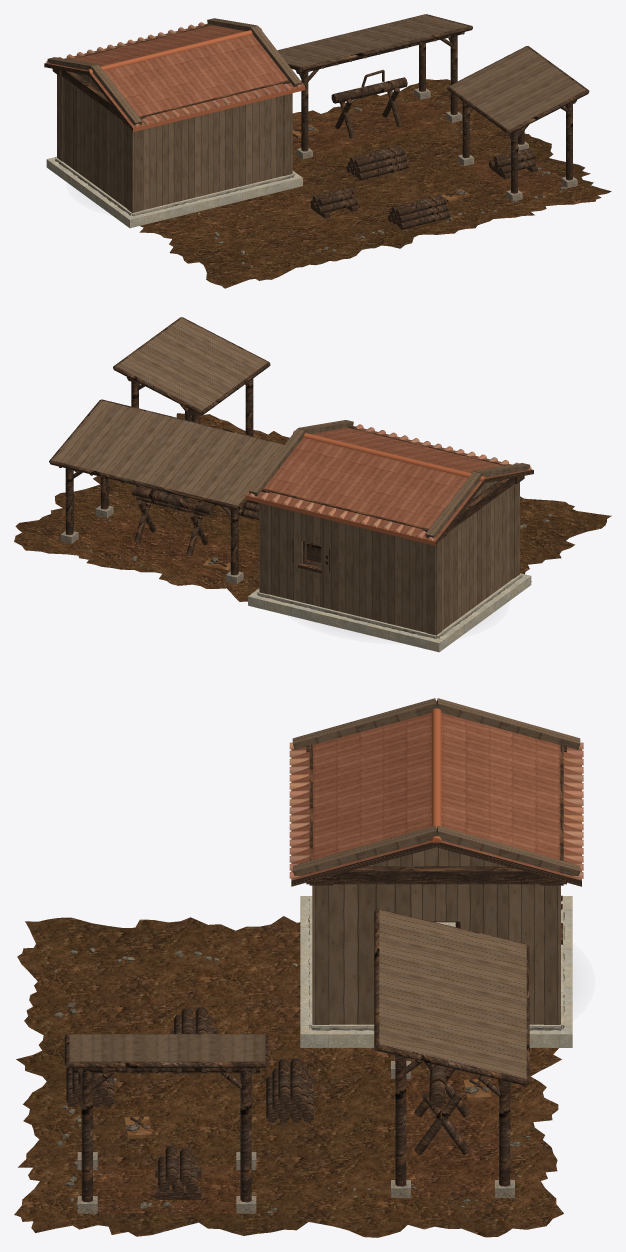
Rendered from saw@2.glb.
3 views of the same model, one above another, from view 1: azimuth 30°, elevation 25°; view 2: azimuth 150°, elevation 25°; view 3: azimuth 270°, elevation 25° (orthographic). The views are drawn at different scales.
Parts seen in each view (by area): view 1: part_1, part_6, part_7, part_16, part_11, part_10, part_5, part_17, part_4, part_18, part_2; view 2: part_6, part_11, part_16, part_1, part_7, part_10, part_5, part_17, part_18, part_4; view 3: part_1, part_11, part_16, part_7, part_6, part_10, part_5, part_18, part_4, part_17, part_2, part_14.
Part boxes in pixels (x1=…): part_1: x1=139, y1=79, x2=611, y2=288; part_6: x1=57, y1=73, x2=292, y2=212; part_7: x1=44, y1=14, x2=589, y2=229; part_16: x1=45, y1=23, x2=304, y2=128; part_11: x1=47, y1=14, x2=586, y2=129; part_10: x1=292, y1=97, x2=564, y2=197; part_5: x1=46, y1=156, x2=302, y2=228; part_17: x1=87, y1=27, x2=305, y2=131; part_4: x1=55, y1=88, x2=577, y2=216; part_18: x1=46, y1=22, x2=302, y2=127; part_2: x1=186, y1=99, x2=567, y2=270; part_6: x1=259, y1=481, x2=519, y2=635; part_11: x1=52, y1=317, x2=529, y2=538; part_16: x1=245, y1=426, x2=532, y2=541; part_1: x1=14, y1=413, x2=611, y2=601; part_7: x1=49, y1=317, x2=533, y2=575; part_10: x1=73, y1=515, x2=259, y2=580; part_5: x1=248, y1=573, x2=531, y2=652; part_17: x1=245, y1=430, x2=486, y2=545; part_18: x1=247, y1=424, x2=531, y2=541; part_4: x1=60, y1=505, x2=522, y2=638; part_1: x1=14, y1=916, x2=563, y2=1237; part_11: x1=69, y1=698, x2=580, y2=1078; part_16: x1=291, y1=713, x2=581, y2=880; part_7: x1=64, y1=745, x2=581, y2=1202; part_6: x1=312, y1=847, x2=560, y2=1024; part_10: x1=93, y1=1075, x2=498, y2=1213; part_5: x1=300, y1=896, x2=572, y2=1047; part_18: x1=289, y1=742, x2=583, y2=878; part_4: x1=77, y1=899, x2=564, y2=1213; part_17: x1=431, y1=700, x2=441, y2=842; part_2: x1=45, y1=948, x2=530, y2=1214; part_14: x1=124, y1=1079, x2=491, y2=1138.
Size of the model in its own units: 9.7 by 2.9 by 7.17.
19 materials, 14 textured.
